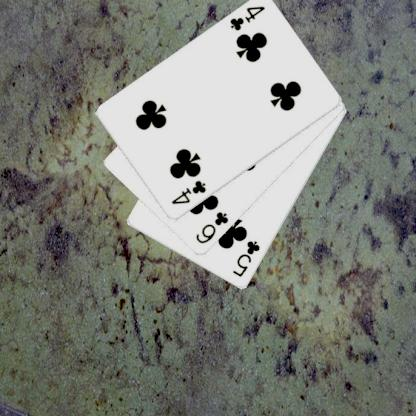4C: (227, 3, 267, 32), (168, 178, 208, 206)
5C: (230, 238, 262, 279)
6C: (193, 209, 230, 246)
